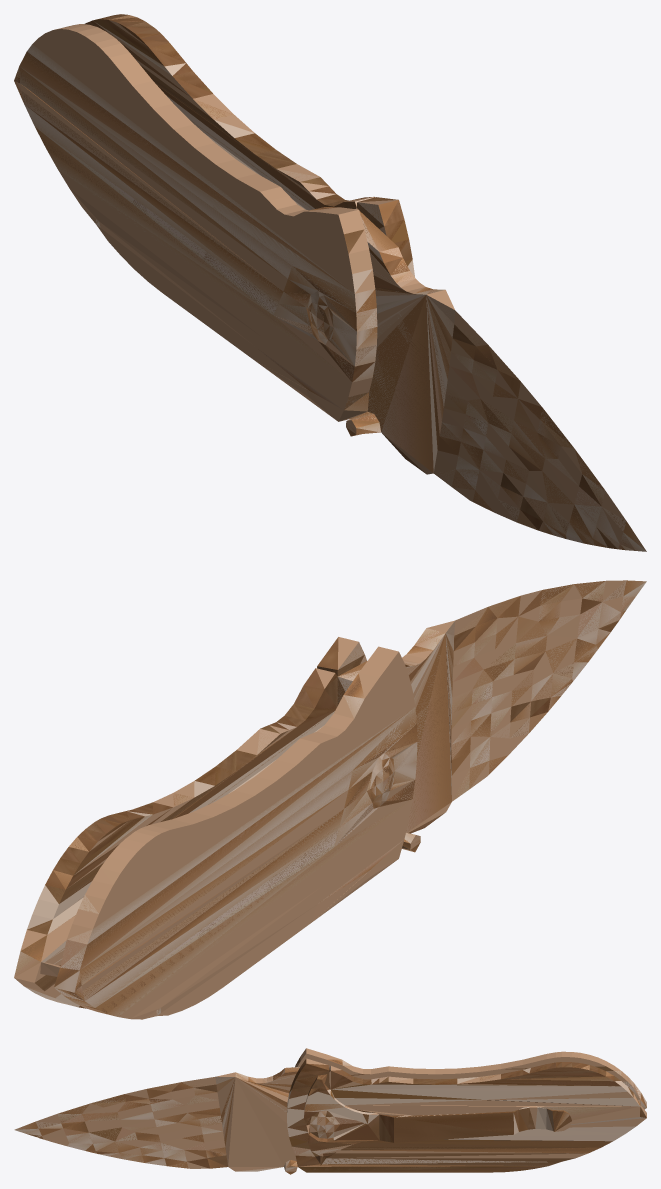
File: model_align.obj
The picture shows the model from 3 angles, top to bottom: view 1: azimuth 30°, elevation 25°; view 2: azimuth 150°, elevation 25°; view 3: azimuth 270°, elevation 25°; orthographic projection. The views are drawn at different scales.
Size of the model in its own units: 0.0175 by 0.0428 by 0.2171.
